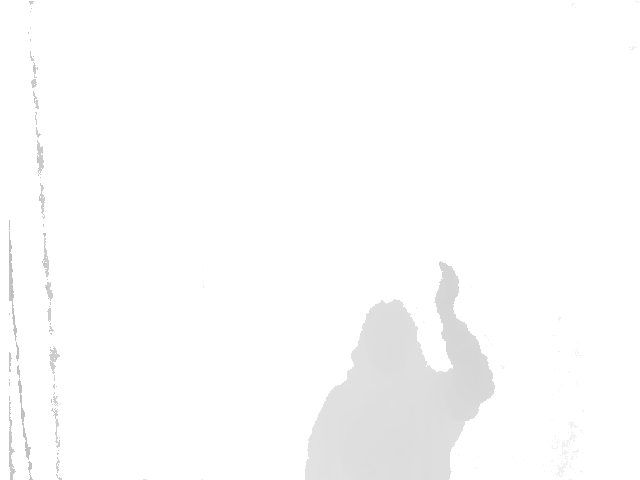hand: (434, 260, 460, 322)
head: (350, 298, 428, 367)
person: (306, 260, 495, 480)
